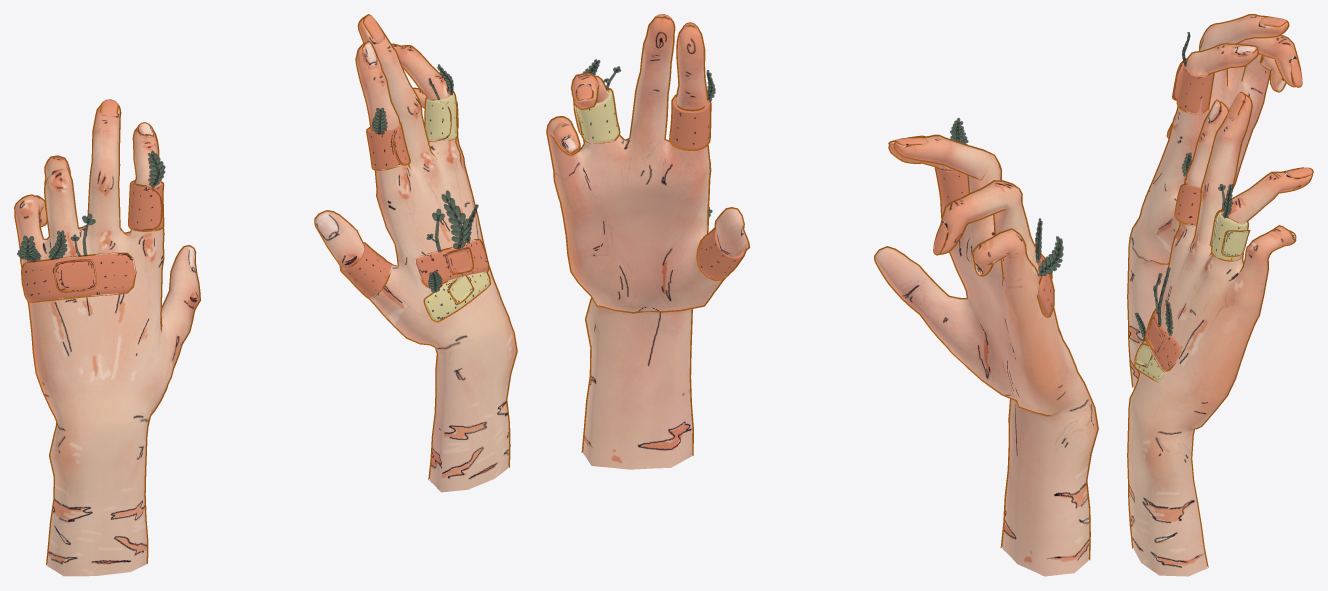
Rendered from damaged_hands.glb.
The picture shows the model from 3 angles, left to right: view 1: azimuth 30°, elevation 25°; view 2: azimuth 150°, elevation 25°; view 3: azimuth 270°, elevation 25°; orthographic projection. The views are drawn at different scales.
Parts seen in each view (by area): view 1: Object_4, Object_5, Object_6, Object_2, Object_3; view 2: Object_4, Object_6, Object_5, Object_2, Object_3; view 3: Object_4, Object_6, Object_5, Object_2, Object_3.
Part boxes in pixels (<box>): Object_4: <box>15,15,516,576</box>; Object_5: <box>22,93,489,321</box>; Object_6: <box>14,14,517,565</box>; Object_2: <box>17,64,478,292</box>; Object_3: <box>17,65,477,291</box>; Object_4: <box>547,14,1097,576</box>; Object_6: <box>546,14,1098,560</box>; Object_5: <box>574,90,1053,316</box>; Object_2: <box>583,59,1063,276</box>; Object_3: <box>583,60,1062,275</box>; Object_4: <box>1128,15,1312,576</box>; Object_6: <box>1127,14,1313,567</box>; Object_5: <box>1135,60,1248,380</box>; Object_2: <box>1135,32,1233,341</box>; Object_3: <box>1135,32,1232,340</box>.
Size of the model in its own units: 0.9811 by 0.9038 by 0.3503.
Materials: 5 (2 with a texture image).
